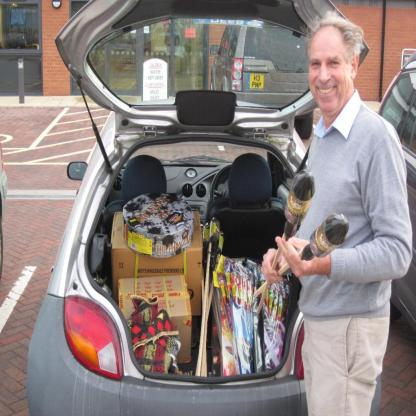Car: (26, 1, 371, 416), (378, 51, 416, 343), (213, 19, 312, 107)
